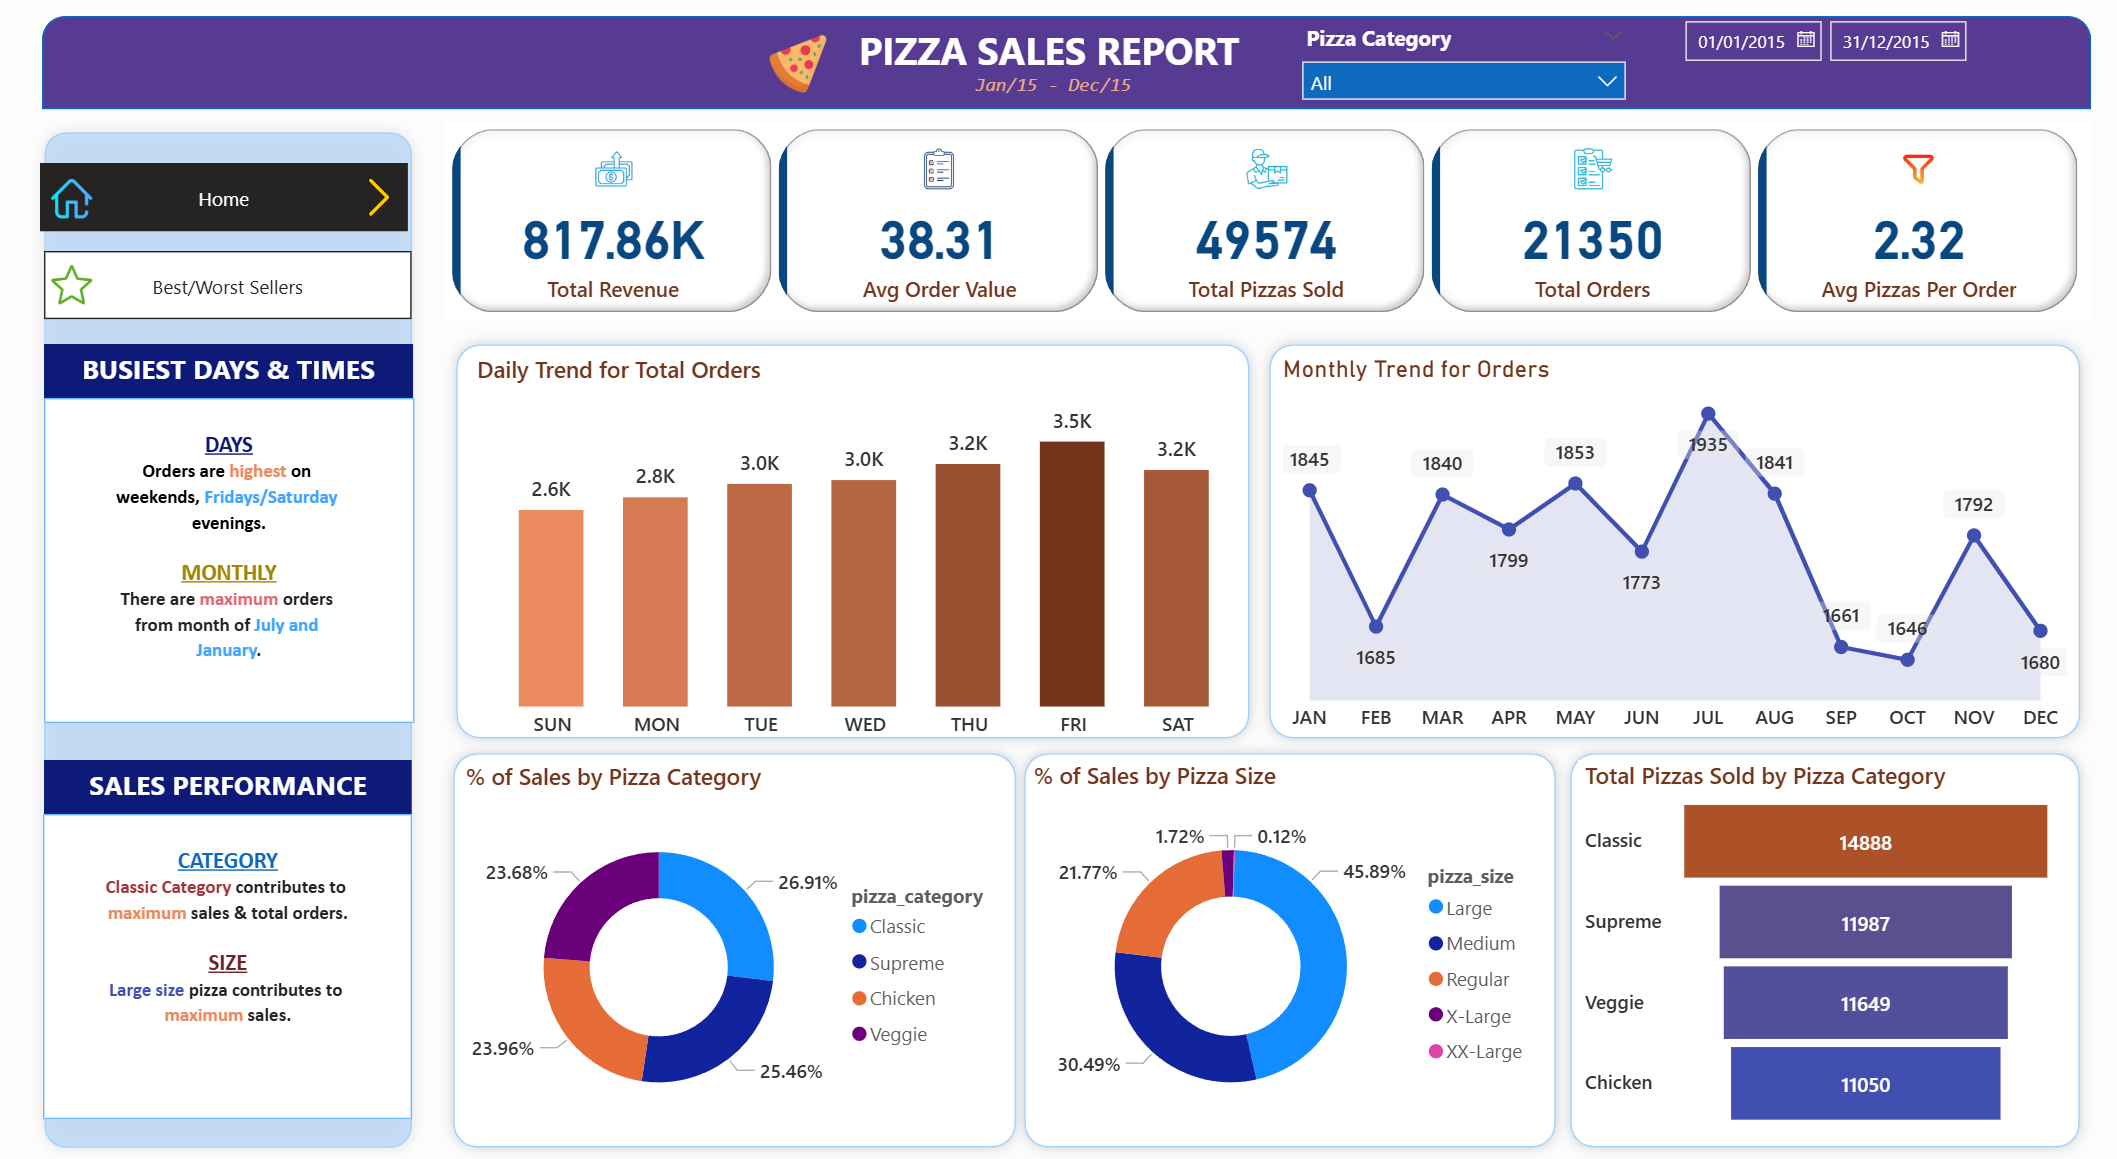

Layout of this report page (visuals, bound fields, positions):
{"tool":"powerbi","page":{"name":"Home","canvas":[1500,820],"ordinal":0},"visuals":[{"type":"cardVisual","fields":{"Data":["pizza_sales.Total Revenue","pizza_sales.Avg Order Value","pizza_sales.Total Pizzas Sold","pizza_sales.Total Orders","pizza_sales.Avg Pizzas Per Order"]},"box":[316.9,89.6,1159.8,139.1],"z":0},{"type":"shape","box":[33.2,14.8,1443.5,65.6],"z":1000},{"type":"textbox","box":[603.6,15.2,289.7,54.6],"z":2000},{"type":"textbox","box":[685.5,48.5,130.4,41],"z":3000},{"type":"image","box":[527.8,22.8,75.8,51.6],"z":4000},{"type":"shape","box":[316.7,238.4,574.7,293.6],"z":5000},{"type":"columnChart","title":"Daily Trend for Total Orders","fields":{"Category":["pizza_sales.Order Day"],"Y":["pizza_sales.Total Orders"]},"box":[334.5,252.7,556.9,279.4],"z":6000},{"type":"shape","box":[889.7,238.4,587.2,293.6],"z":7000},{"type":"areaChart","title":"Monthly Trend for Orders ","fields":{"Category":["pizza_sales.Order Month"],"Y":["pizza_sales.Total Orders"]},"box":[902.1,252.7,562.3,274],"z":8000},{"type":"shape","box":[314.8,526.6,412.2,293.6],"z":9000},{"type":"shape","box":[26.6,88.8,275,731.4],"z":10000},{"type":"shape","box":[717.2,526.6,390.4,293.6],"z":11000},{"type":"shape","box":[1101.9,526.6,374.8,293.6],"z":12000},{"type":"donutChart","title":"% of Sales by Pizza Category","fields":{"Category":["pizza_sales.pizza_category"],"Y":["pizza_sales.Total Revenue"]},"box":[326.8,539.3,390.4,269.6],"z":13000},{"type":"textbox","box":[34.6,245.7,260.1,37.8],"z":14000},{"type":"textbox","box":[34.2,283.6,260.5,228.9],"z":15000},{"type":"textbox","box":[34.4,539.2,259.4,38.2],"z":16000},{"type":"textbox","box":[33.6,576.9,260.4,214.9],"z":17000},{"type":"donutChart","title":"% of Sales by Pizza Size","fields":{"Category":["pizza_sales.pizza_size"],"Y":["pizza_sales.Total Revenue"]},"box":[727.3,539.1,367.2,269.5],"z":18000},{"type":"funnel","title":"Total Pizzas Sold by Pizza Category","fields":{"Y":["pizza_sales.Total Pizzas Sold"],"Category":["pizza_sales.pizza_category"]},"box":[1114.8,539.1,340.6,264.1],"z":19000},{"type":"slicer","fields":{"Values":["pizza_sales.pizza_category"]},"box":[910.9,14.8,247.7,65.6],"z":20000},{"type":"slicer","fields":{"Values":["pizza_sales.order_date"]},"box":[1178.1,8.6,247.7,71.9],"z":21000},{"type":"pageNavigator","box":[31.8,118.2,259.1,48.2],"z":22000},{"type":"pageNavigator","box":[34.6,180.3,259.6,48.4],"z":23000},{"type":"image","box":[250,123.6,40.9,37.3],"z":24000},{"type":"image","box":[34.5,184.5,39.1,39.1],"z":25000},{"type":"image","box":[34.5,123.6,39.1,39.1],"z":26000}]}

Visuals, with their boxes in screenshot pixels (x1, y1, x2, y2), scaled from the page's 1500x820 canvas onto the 2117x1159 screenshot:
cardVisual - pizza_sales.Total Revenue x pizza_sales.Avg Order Value: bbox=(447, 127, 2084, 323)
shape: bbox=(47, 21, 2084, 114)
textbox: bbox=(852, 21, 1261, 99)
textbox: bbox=(967, 69, 1152, 127)
image: bbox=(745, 32, 852, 105)
shape: bbox=(447, 337, 1258, 752)
"Daily Trend for Total Orders" columnChart: bbox=(472, 357, 1258, 752)
shape: bbox=(1256, 337, 2084, 752)
"Monthly Trend for Orders " areaChart: bbox=(1273, 357, 2067, 744)
shape: bbox=(444, 744, 1026, 1158)
shape: bbox=(38, 126, 426, 1158)
shape: bbox=(1012, 744, 1563, 1158)
shape: bbox=(1555, 744, 2084, 1158)
"% of Sales by Pizza Category" donutChart: bbox=(461, 762, 1012, 1143)
textbox: bbox=(49, 347, 416, 401)
textbox: bbox=(48, 401, 416, 724)
textbox: bbox=(49, 762, 415, 816)
textbox: bbox=(47, 815, 415, 1119)
"% of Sales by Pizza Size" donutChart: bbox=(1026, 762, 1545, 1143)
"Total Pizzas Sold by Pizza Category" funnel: bbox=(1573, 762, 2054, 1135)
slicer - pizza_sales.pizza_category: bbox=(1286, 21, 1635, 114)
slicer - pizza_sales.order_date: bbox=(1663, 12, 2012, 114)
pageNavigator: bbox=(45, 167, 411, 235)
pageNavigator: bbox=(49, 255, 415, 323)
image: bbox=(353, 175, 411, 227)
image: bbox=(49, 261, 104, 316)
image: bbox=(49, 175, 104, 230)
